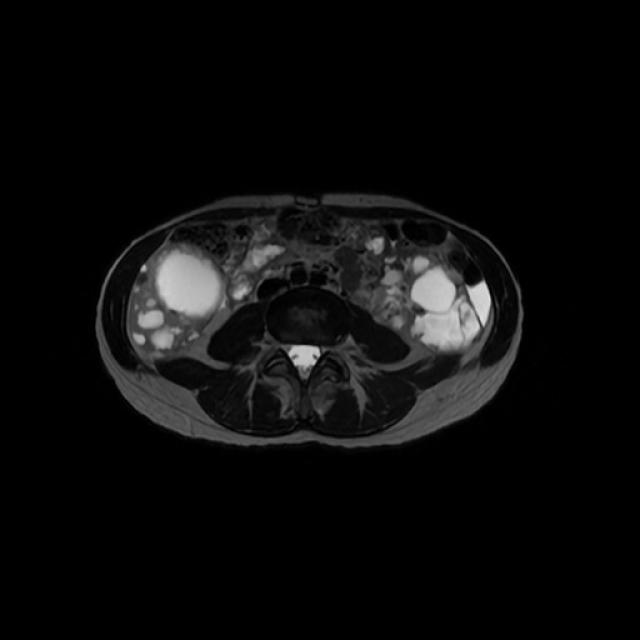sag: (128, 240, 229, 364)
sol: (367, 250, 486, 358)
